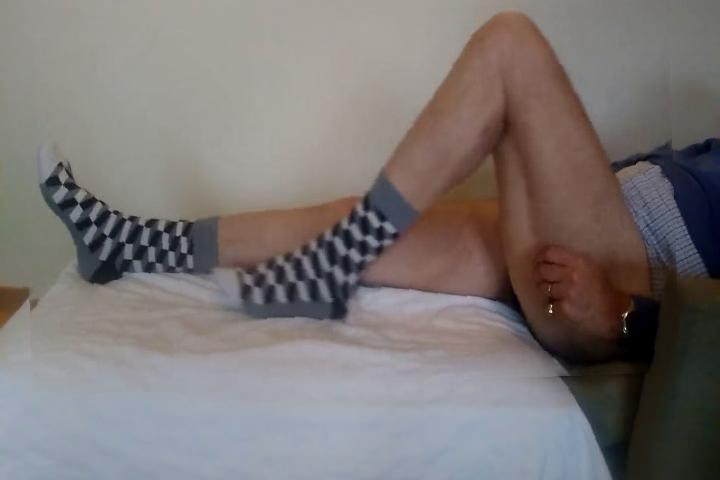lower_body: (24, 7, 678, 391)
